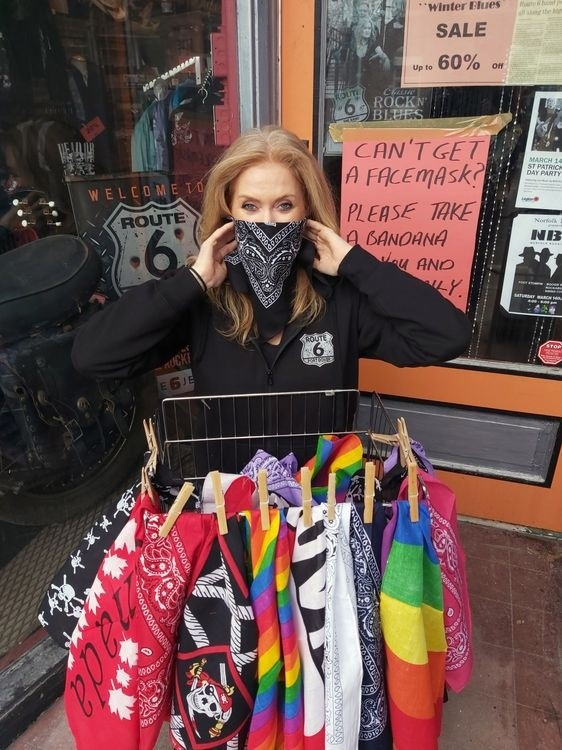face_with_mask: (213, 136, 321, 283)
